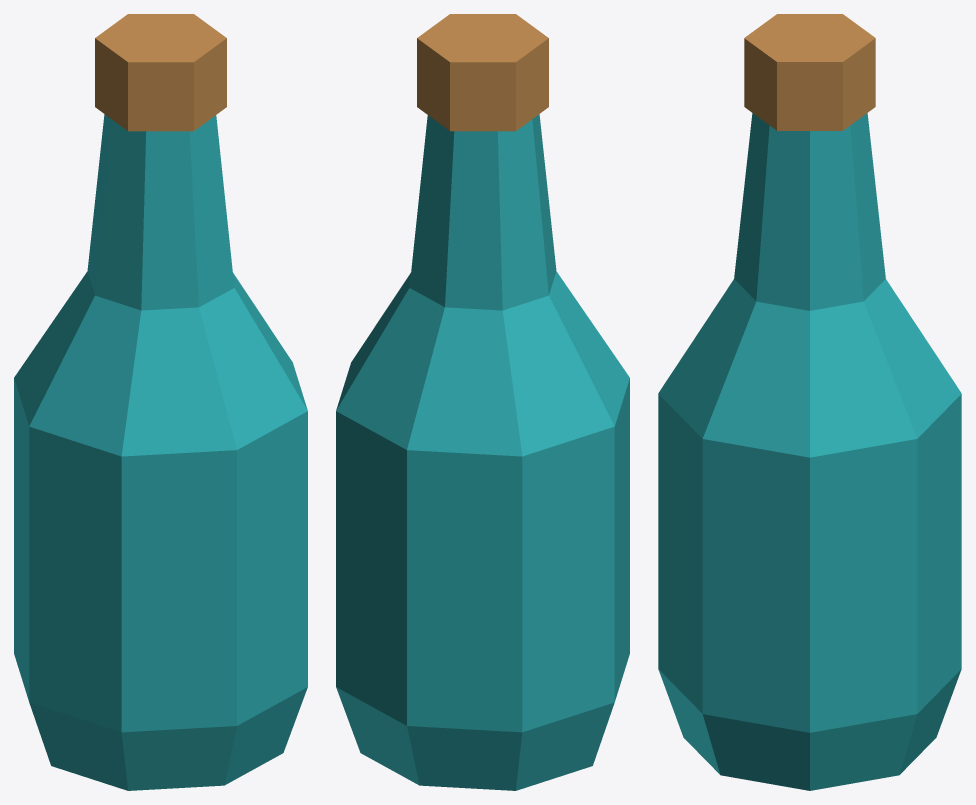
Rendered from rum_bottle.glb.
3 views of the same model, side by side, from view 1: azimuth 30°, elevation 25°; view 2: azimuth 150°, elevation 25°; view 3: azimuth 270°, elevation 25° (orthographic).
Visible parts, largest first — view 1: rum_bottle; view 2: rum_bottle; view 3: rum_bottle.
Part boxes in pixels (<box>): rum_bottle: <box>14,14,307,790</box>; rum_bottle: <box>336,14,629,790</box>; rum_bottle: <box>658,14,961,790</box>.
Size of the model in its own units: 0.12 by 0.305 by 0.12.
